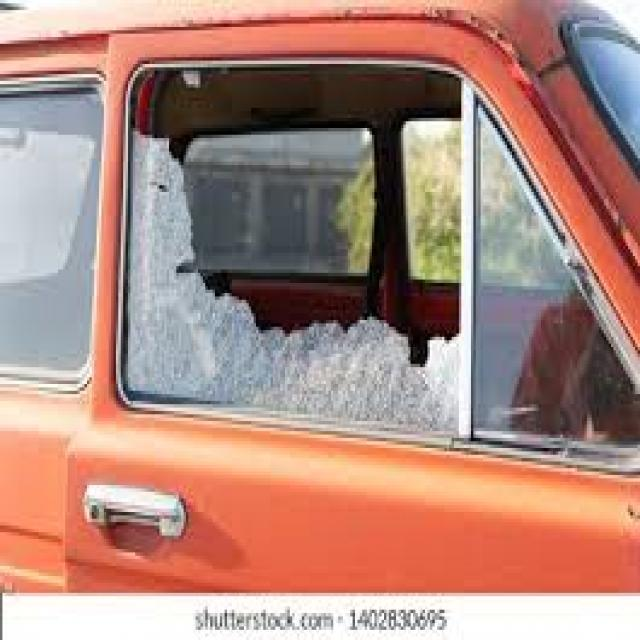damaged-window: (120, 52, 490, 449)
